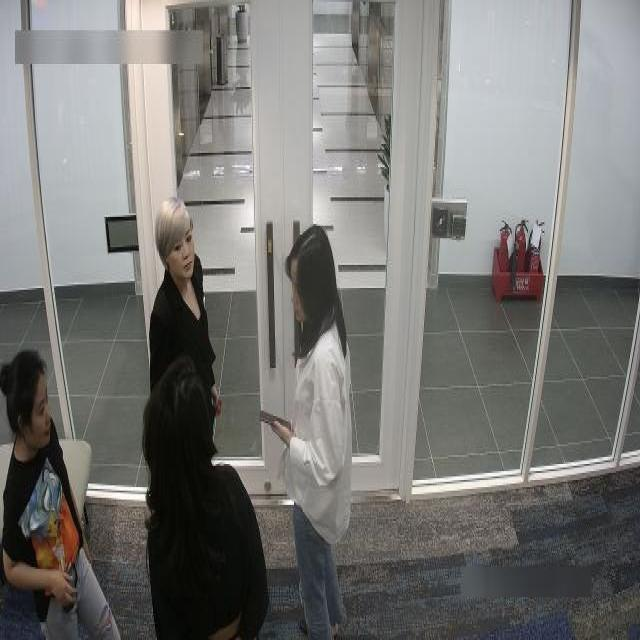bare_hand: (44, 556, 84, 622), (256, 411, 302, 460), (196, 373, 234, 425)
